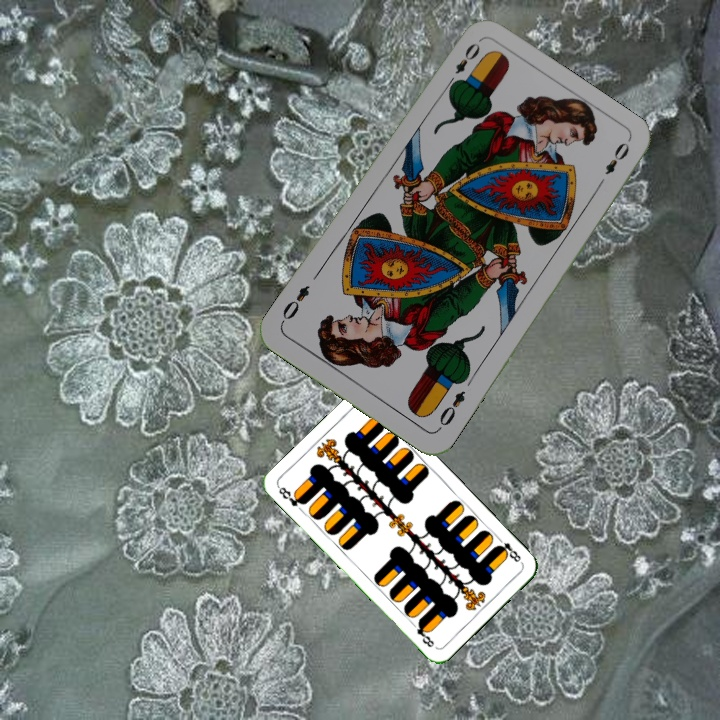E8: (492, 533, 525, 566), (274, 483, 308, 509)
EO: (443, 38, 483, 91), (434, 386, 468, 433)
